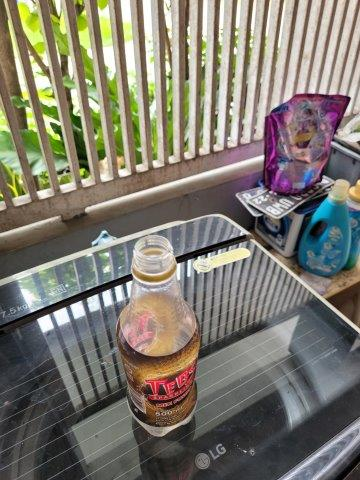botolplastik: (115, 234, 198, 437)
